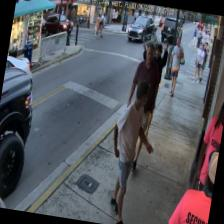person: (99, 75, 164, 224), (117, 40, 164, 172), (163, 143, 219, 224), (128, 36, 170, 140), (190, 90, 224, 214), (164, 37, 187, 97)
